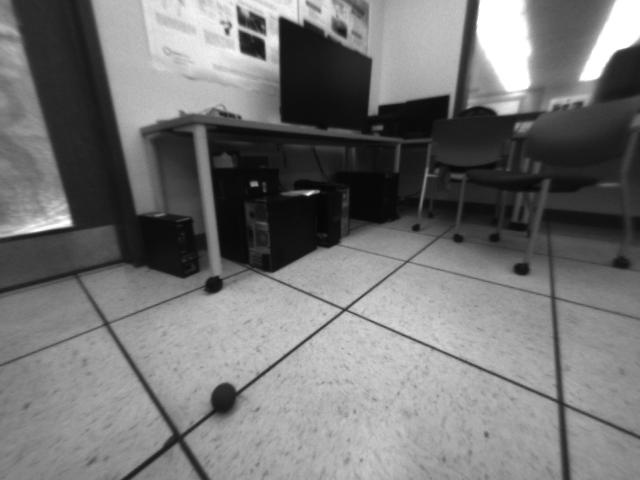dogtoy: (204, 375, 246, 418)
